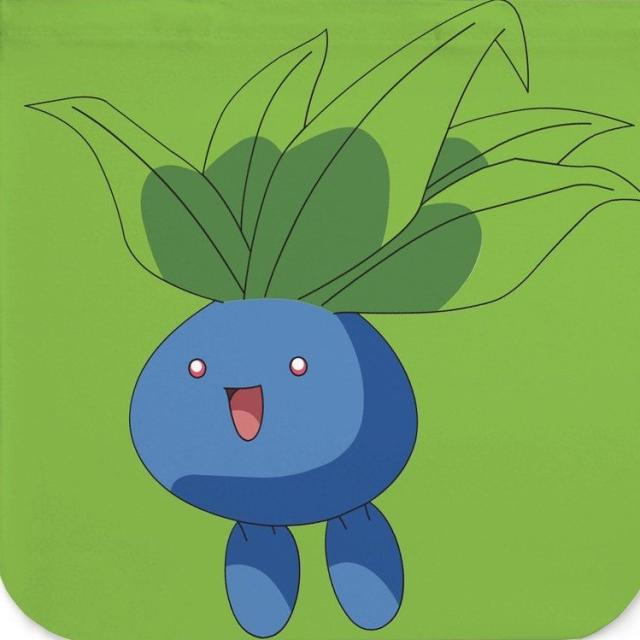Oddish: (117, 26, 440, 626)
